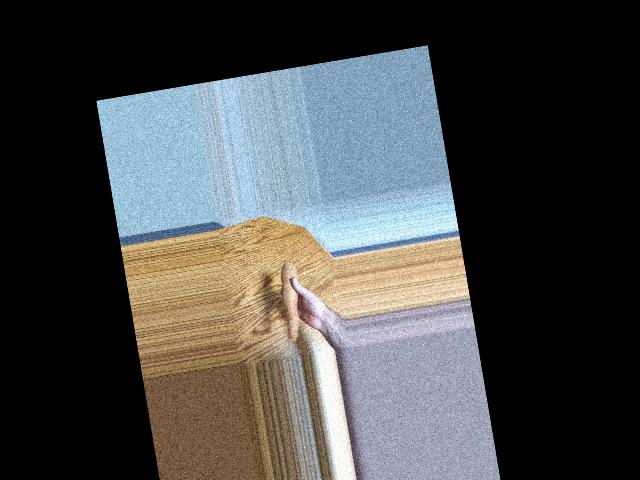sweet_potato: (275, 262, 306, 345)
